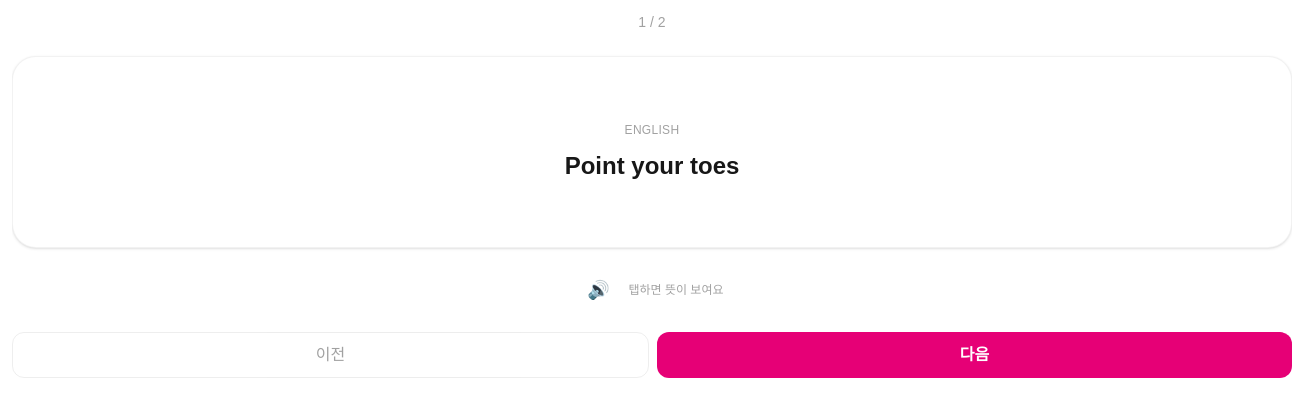
FlashcardDeck › flips between english and korean
Expected: the text "Point your toes" is shown, [565,150,739,182]
Click the button with aria-label "카드 뒤집기" at (652, 152), box [12,56,1292,248]
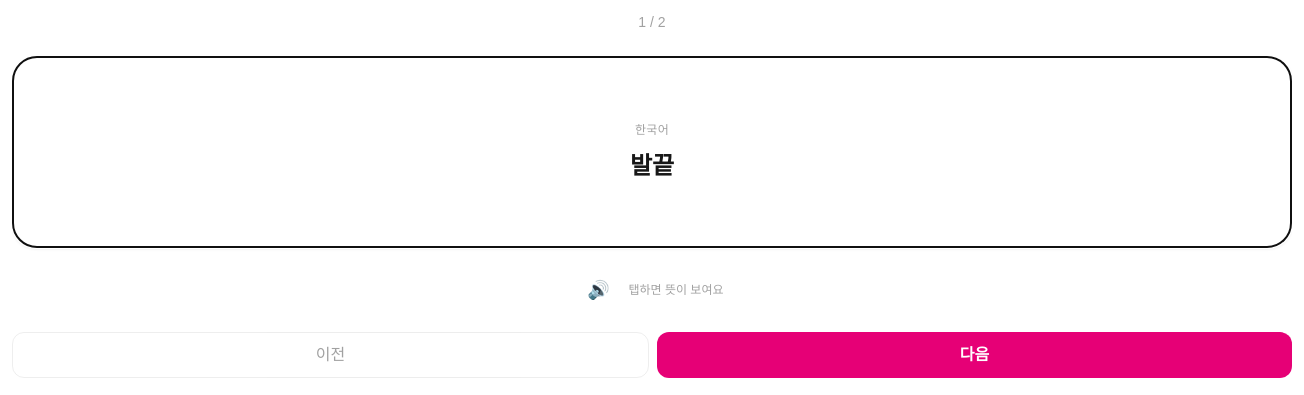
Now the text "발끝" is shown, box [630,150,674,182]
